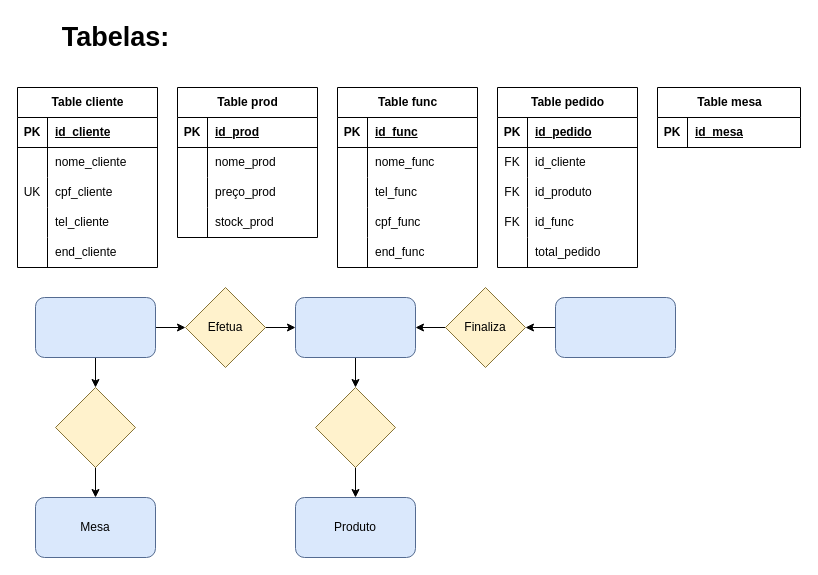
Some shapes in this 818 by 575 pixel diagram are drawn without their labels. Each missing label, with the centre of its shape:
"Cliente" goes at (95,327).
"Contém" goes at (355,427).
"Funcionário" goes at (615,327).
"Pedido" goes at (355,327).
"Reserva" goes at (95,427).
